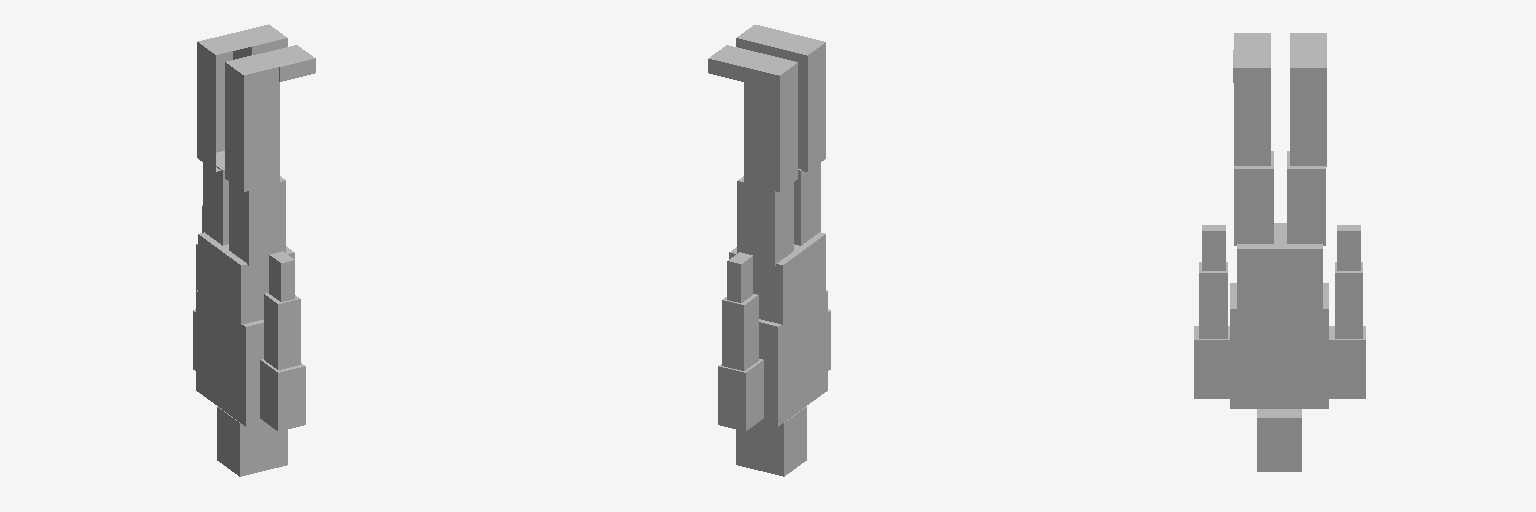
File: UniqueSolutionMaze_robot.obj
3 views of the same model, side by side, from view 1: azimuth 30°, elevation 25°; view 2: azimuth 150°, elevation 25°; view 3: azimuth 270°, elevation 25° (orthographic).
Visible parts, largest first — view 1: instance_0-11, instance_0-9, instance_0-8, instance_0-13, instance_0-7, instance_0-4, instance_0-12, instance_0-14, instance_0-5, instance_0-10, instance_0-6; view 2: instance_0-8, instance_0-9, instance_0-13, instance_0-11, instance_0-5, instance_0-4, instance_0-16, instance_0, instance_0-7, instance_0-3, instance_0-10; view 3: instance_0-9, instance_0-13, instance_0-8, instance_0-11, instance_0-7, instance_0-5, instance_0-4, instance_0-16, instance_0-12, instance_0-14, instance_0, instance_0-10 (+2 smaller).
Part boxes in pixels (x1,y1,x2,y2): instance_0-11: (225,53,279,191); instance_0-9: (196,290,263,426); instance_0-8: (197,24,287,171); instance_0-13: (198,232,294,324); instance_0-7: (229,176,285,265); instance_0-4: (217,407,287,476); instance_0-12: (260,359,305,431); instance_0-14: (264,293,300,369); instance_0-5: (203,151,228,245); instance_0-10: (262,45,315,81); instance_0-6: (269,251,294,301); instance_0-8: (708,45,797,191); instance_0-9: (759,290,827,426); instance_0-13: (729,232,825,324); instance_0-11: (772,33,825,171); instance_0-5: (737,176,793,265); instance_0-4: (736,406,806,476); instance_0-16: (718,359,763,431); instance_0: (722,294,758,370); instance_0-7: (794,163,820,245); instance_0-3: (727,252,752,302); instance_0-10: (736,25,789,55); instance_0-9: (1230,283,1328,408); instance_0-13: (1237,223,1322,308); instance_0-8: (1290,33,1326,166); instance_0-11: (1234,33,1270,165); instance_0-7: (1234,151,1273,245); instance_0-5: (1287,151,1325,245); instance_0-4: (1257,409,1301,471); instance_0-16: (1329,326,1365,398); instance_0-12: (1194,326,1229,398); instance_0-14: (1199,262,1227,338); instance_0: (1335,262,1362,338); instance_0-10: (1233,50,1270,82).
Bounding box in the file's own units: 2.52 × 13.6 × 5.13.